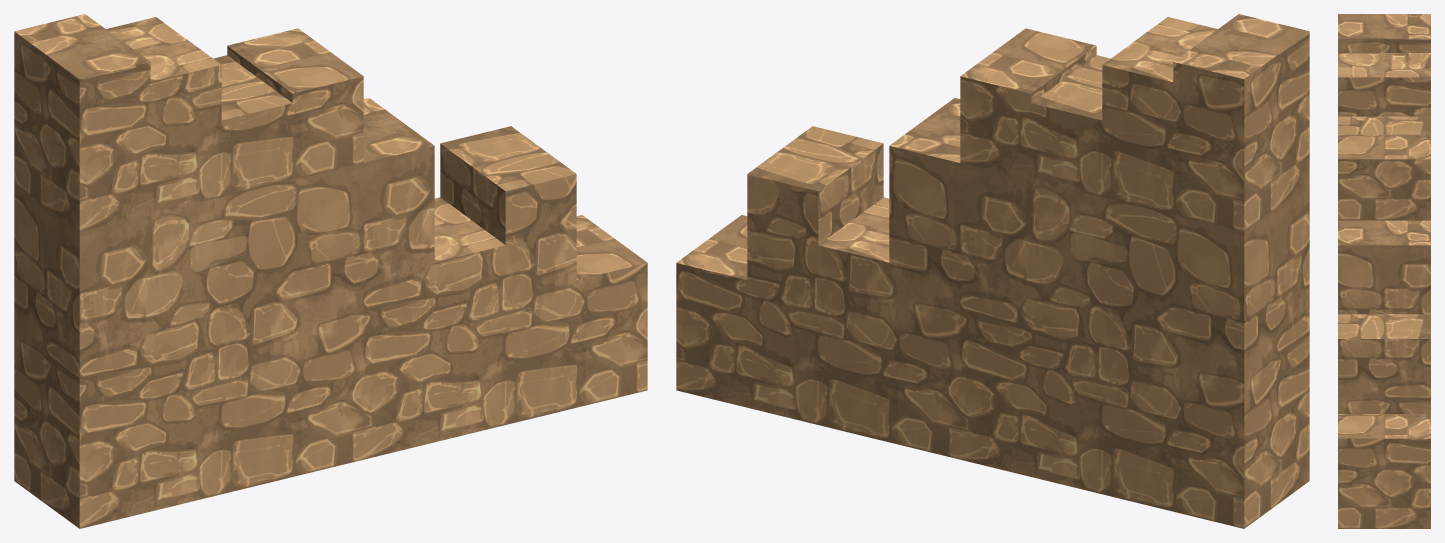
Rendered from wall_broken.gltf.
3 views of the same model, side by side, from view 1: azimuth 30°, elevation 25°; view 2: azimuth 150°, elevation 25°; view 3: azimuth 270°, elevation 25° (orthographic). The views are drawn at different scales.
Parts seen in each view (by area): view 1: wall_broken; view 2: wall_broken; view 3: wall_broken.
Part boxes in pixels (x1=…): wall_broken: x1=14, y1=14, x2=647, y2=528; wall_broken: x1=676, y1=14, x2=1309, y2=528; wall_broken: x1=1338, y1=14, x2=1430, y2=528.
Size of the model in its own units: 4 by 3.03 by 0.8.
Materials: 1 (1 with a texture image).
